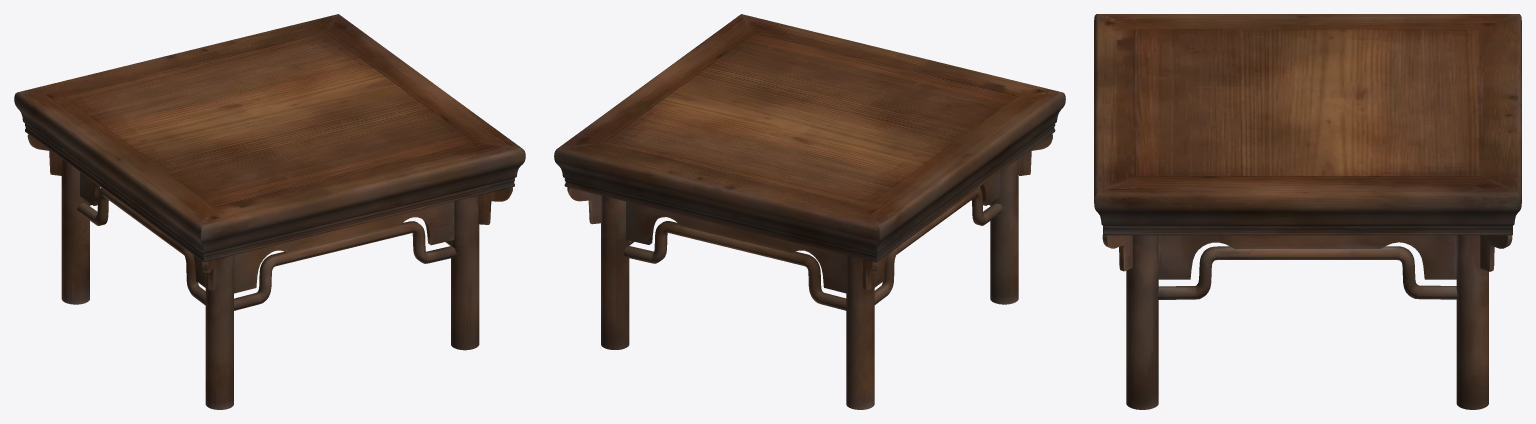
Rendered from chinese_tea_table.glb.
3 renders of one model, left to right at view 1: azimuth 30°, elevation 25°; view 2: azimuth 150°, elevation 25°; view 3: azimuth 270°, elevation 25°, orthographic. The views are drawn at different scales.
Parts seen in each view (by area): view 1: chinese_tea_table; view 2: chinese_tea_table; view 3: chinese_tea_table.
Boxes of the visible parts, x1,y1,x2,y2 form: chinese_tea_table: (14, 14, 525, 409); chinese_tea_table: (554, 14, 1065, 409); chinese_tea_table: (1094, 14, 1521, 409).
Bounding box in the file's own units: 0.8413 × 0.4986 × 0.8356.
Materials: 1 (1 with a texture image).
